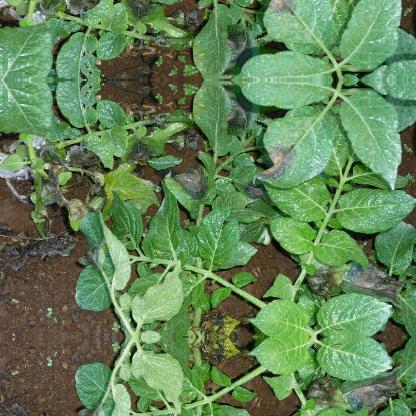Late-Blight: (1, 124, 119, 268), (136, 100, 260, 214), (314, 230, 412, 314), (250, 108, 342, 190), (135, 0, 260, 57), (313, 358, 412, 416), (249, 0, 342, 50), (1, 0, 119, 34)
